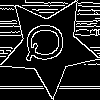Q: (24, 21, 73, 64)
